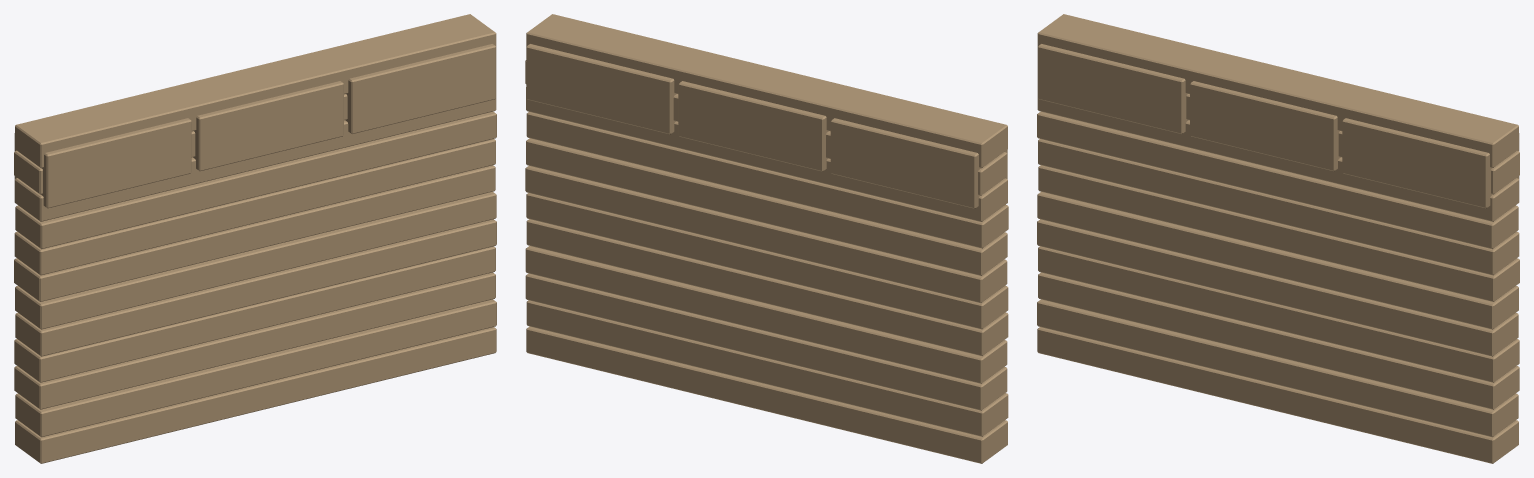
File: covers_barricade_ruelle.glb
The picture shows the model from 3 angles, left to right: view 1: azimuth 30°, elevation 25°; view 2: azimuth 150°, elevation 25°; view 3: azimuth 330°, elevation 25°; orthographic projection.
Parts seen in each view (by area): view 1: covers_barricade_ruelle; view 2: covers_barricade_ruelle; view 3: covers_barricade_ruelle.
Boxes of the visible parts, x1,y1,x2,y2 form: covers_barricade_ruelle: (14,14,496,463); covers_barricade_ruelle: (525,14,1008,463); covers_barricade_ruelle: (1037,14,1519,463).
Bounding box in the file's own units: 4 × 2.68 × 0.5.
